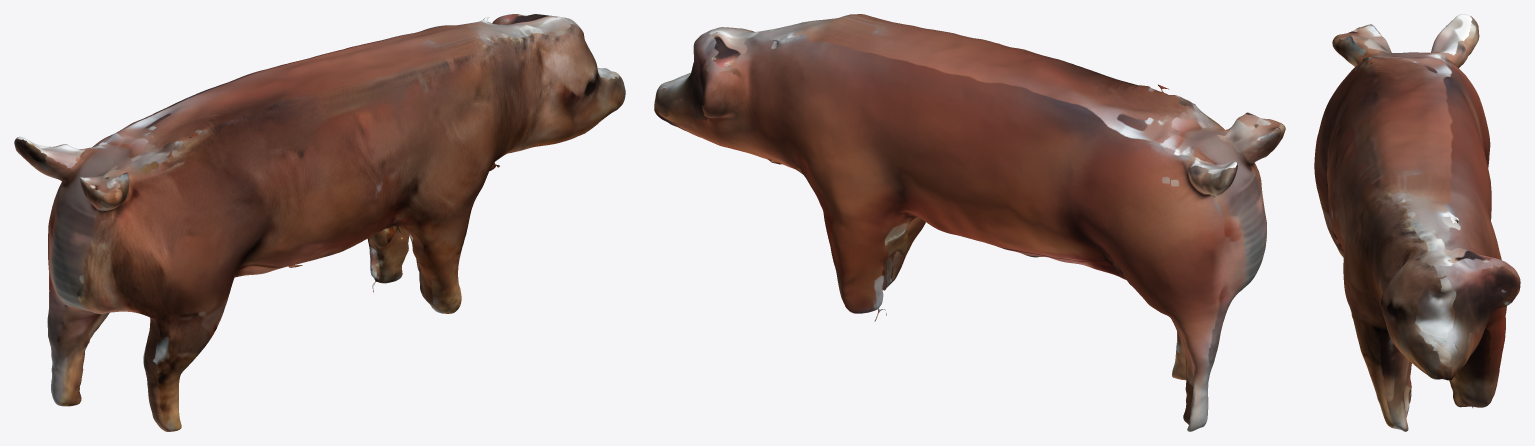
File: adulto.glb
3 views of the same model, side by side, from view 1: azimuth 30°, elevation 25°; view 2: azimuth 150°, elevation 25°; view 3: azimuth 270°, elevation 25° (orthographic). The views are drawn at different scales.
Parts seen in each view (by area): view 1: mesh; view 2: mesh; view 3: mesh.
Part boxes in pixels (x1=…): mesh: x1=14, y1=14, x2=625, y2=431; mesh: x1=654, y1=14, x2=1285, y2=431; mesh: x1=1314, y1=14, x2=1520, y2=431.
Size of the model in its own units: 1.84 by 0.8825 by 0.5823.
Materials: 1 (1 with a texture image).
